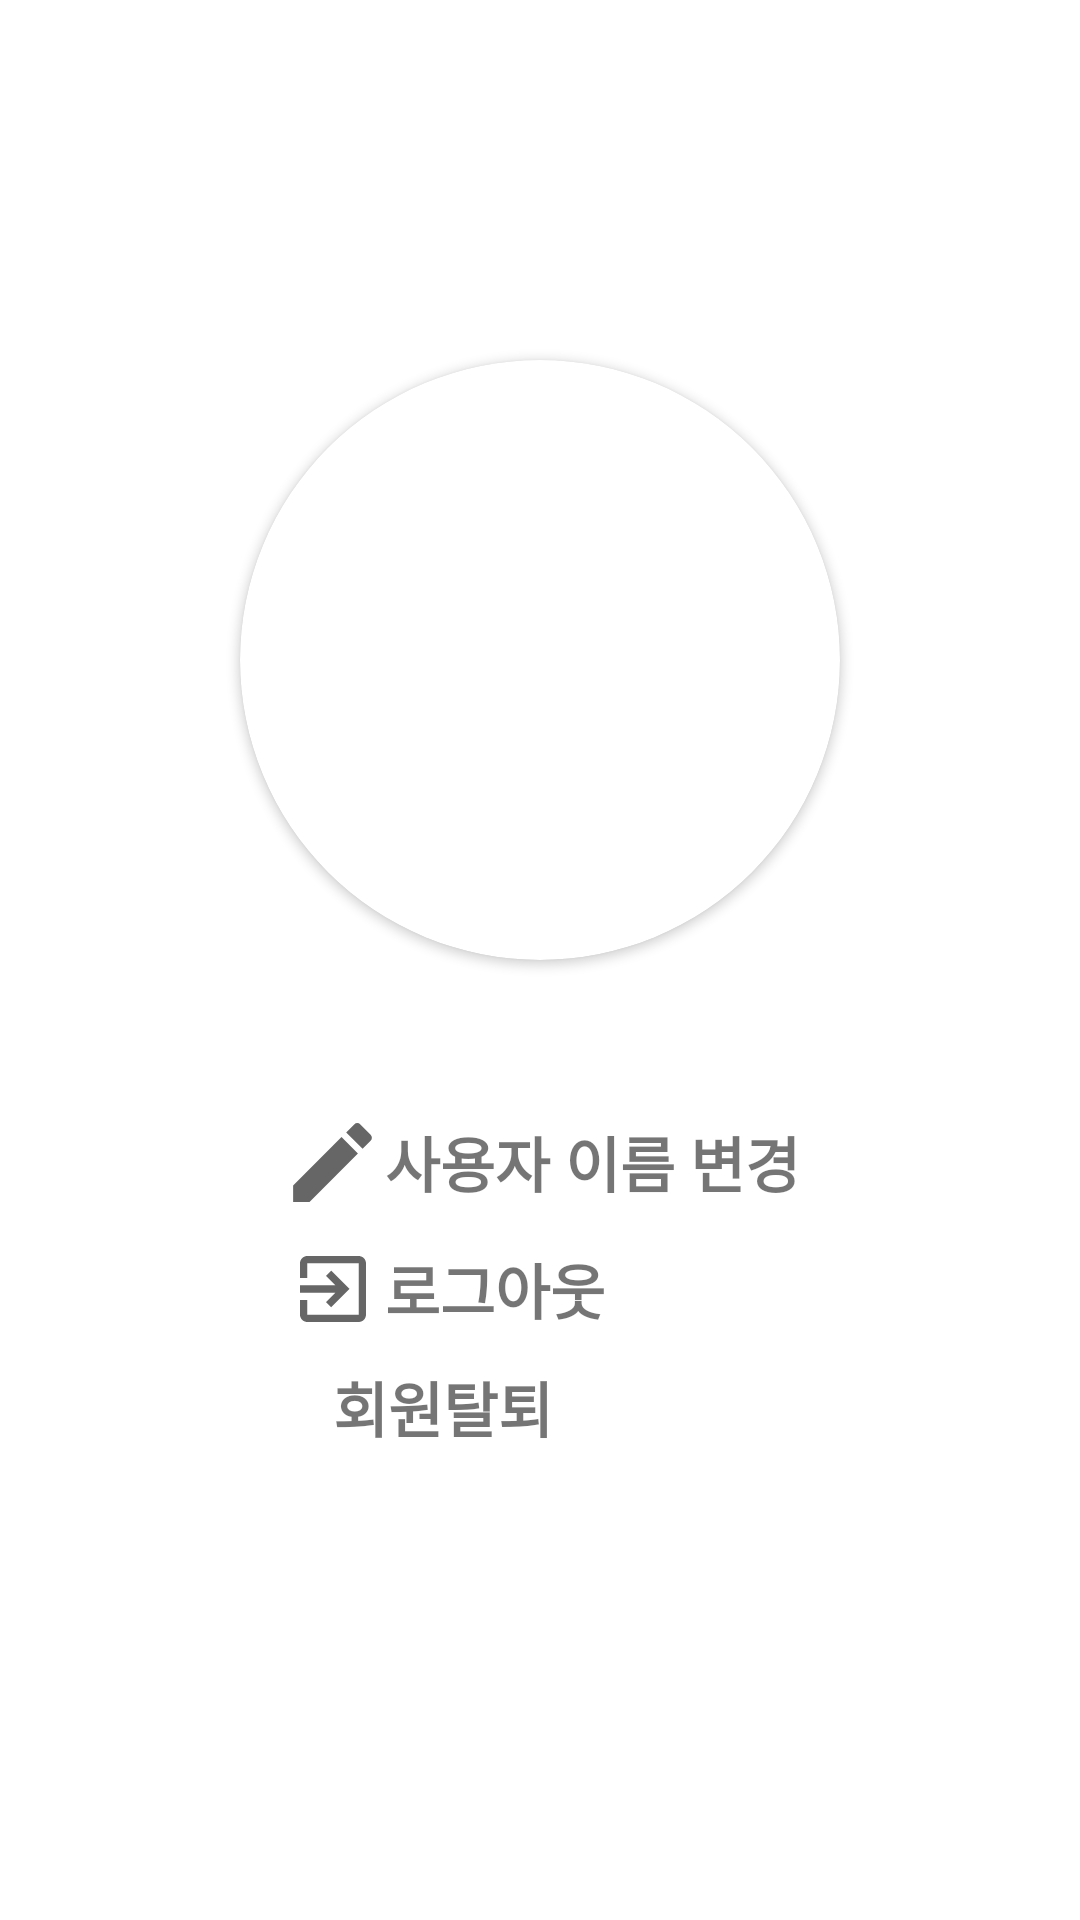

Icon bounding boxes for this 1080 × 1920 phone screenshot, format [x1=x1, y1=y1, x2=x2, y2=y2]:
setting change: [x1=293, y1=1123, x2=372, y2=1202]
